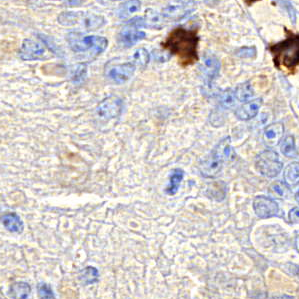Lymphocyte: (162, 25, 202, 66)
